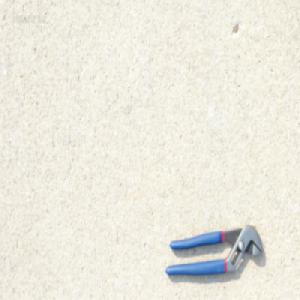Pliers: (163, 222, 264, 277)
